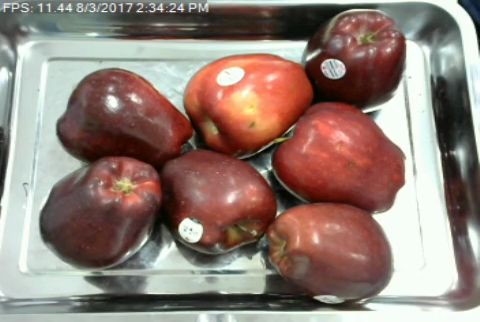Apple: (269, 99, 408, 215), (37, 152, 167, 270), (181, 51, 315, 163), (54, 64, 196, 167), (261, 198, 395, 306), (157, 147, 280, 255), (301, 7, 407, 110)
